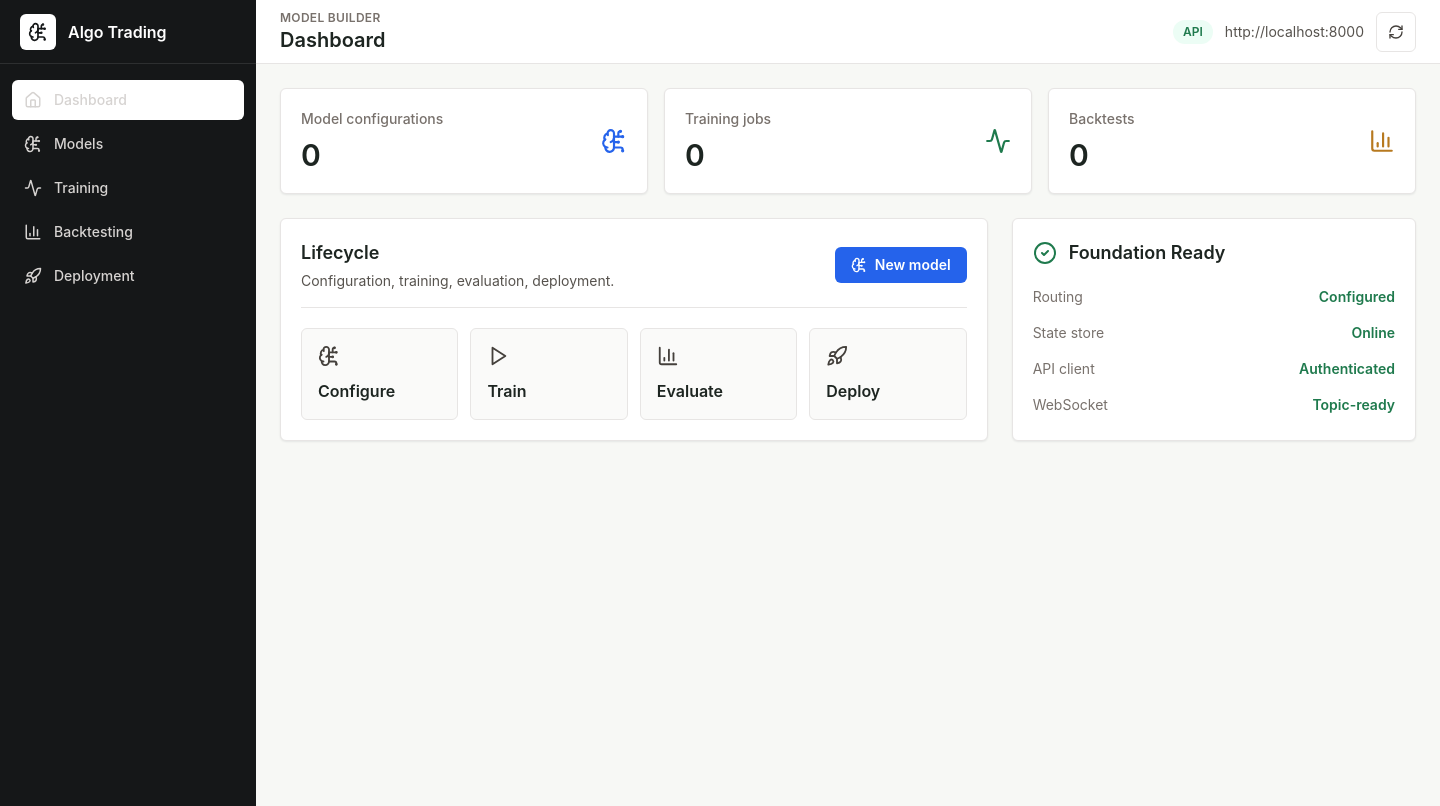
App › navigates between planned routes
The width and height of the screenshot is (1440, 806).
What coordinates should you click on to do the following:
click the link "Models"
I would click on:
 (64, 144)
Its box is [24,135,103,153].
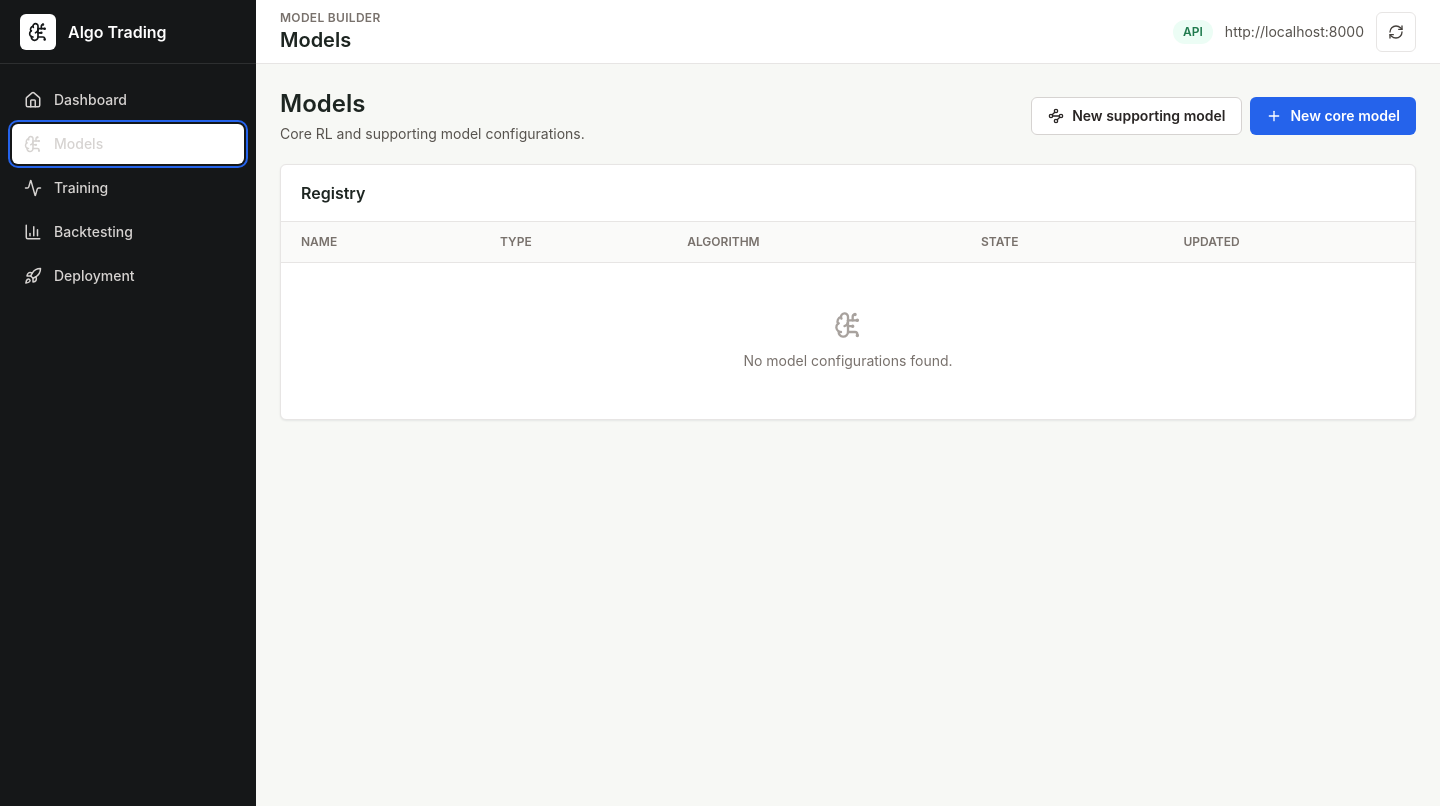
expect the heading "Models" in the row of "New supporting model" is shown: met, box [280,89,365,118]
What coordinates should you click on to do the following:
click the link "Training"
I would click on:
 (66, 188)
Its box is [24,179,108,197].
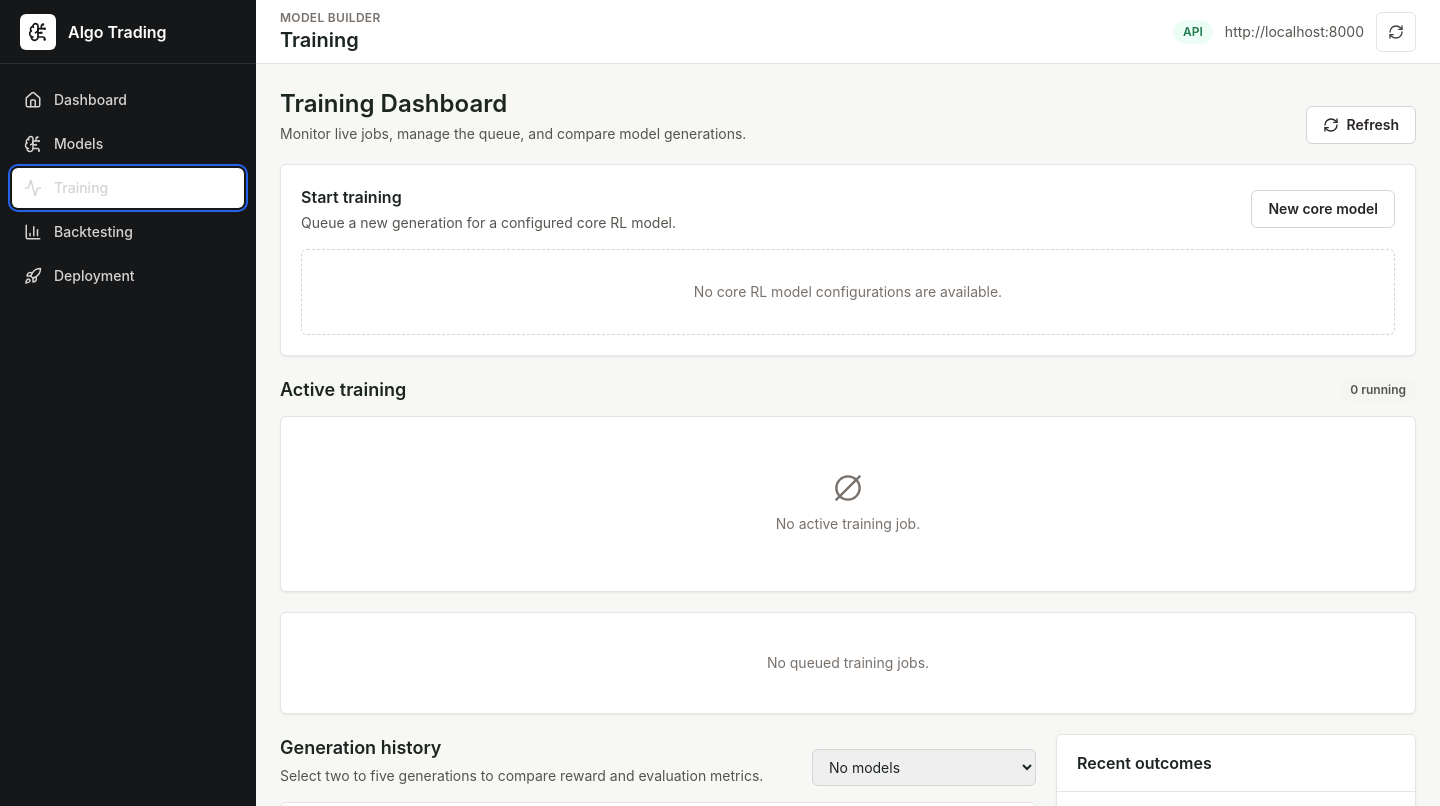
expect the heading "Training Dashboard" is shown: met, box [280,89,507,118]
What coordinates should you click on to do the following:
click the link "Backtesting"
I would click on:
 (78, 232)
Its box is [24,223,133,241].
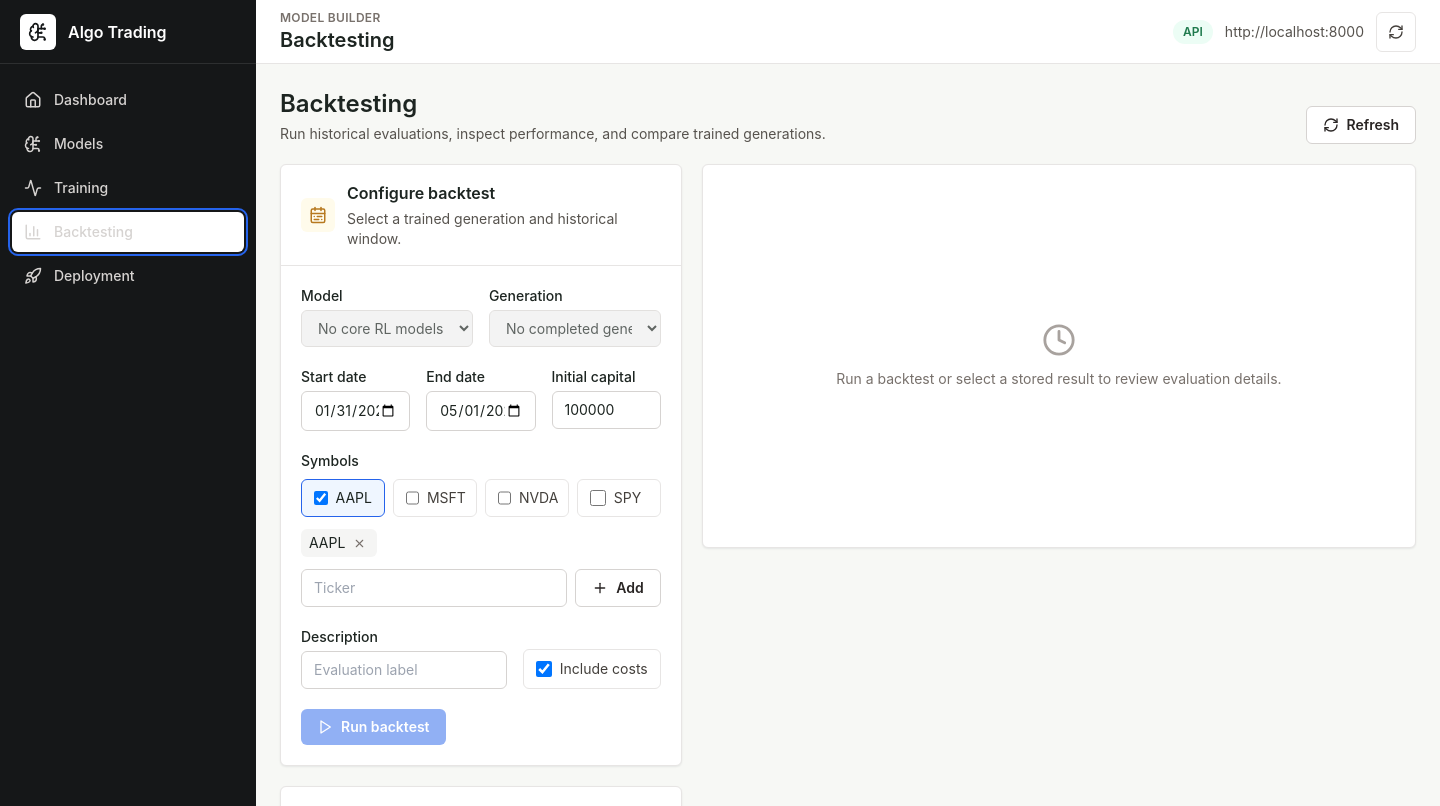
expect the 2nd heading "Backtesting" is shown: met, box [280,89,417,118]
